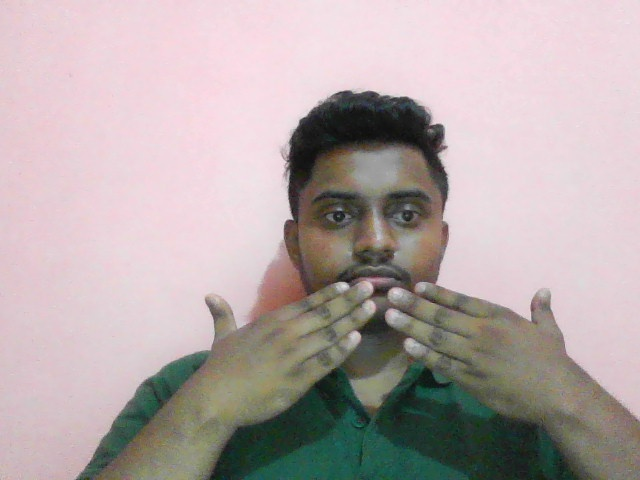Thank You: (163, 274, 626, 444)
